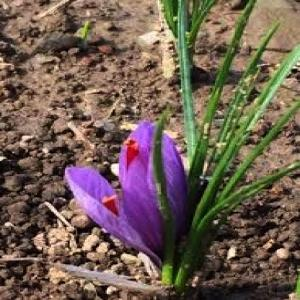Saffron: (70, 124, 190, 270)
